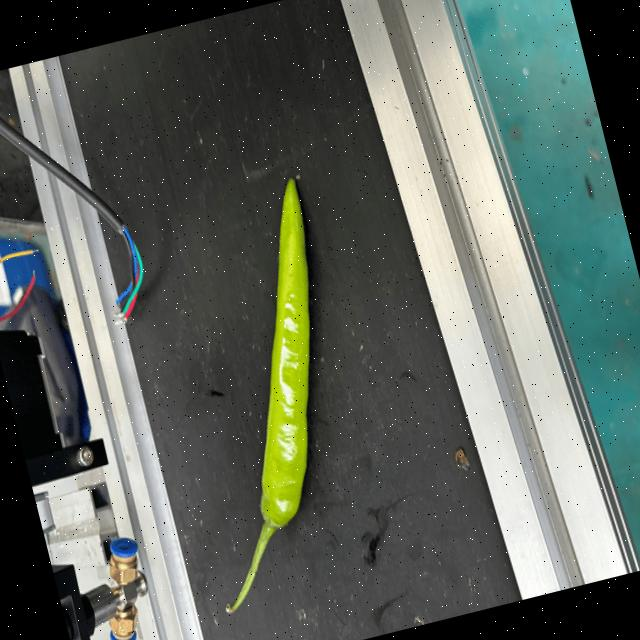chili: (261, 172, 312, 531)
